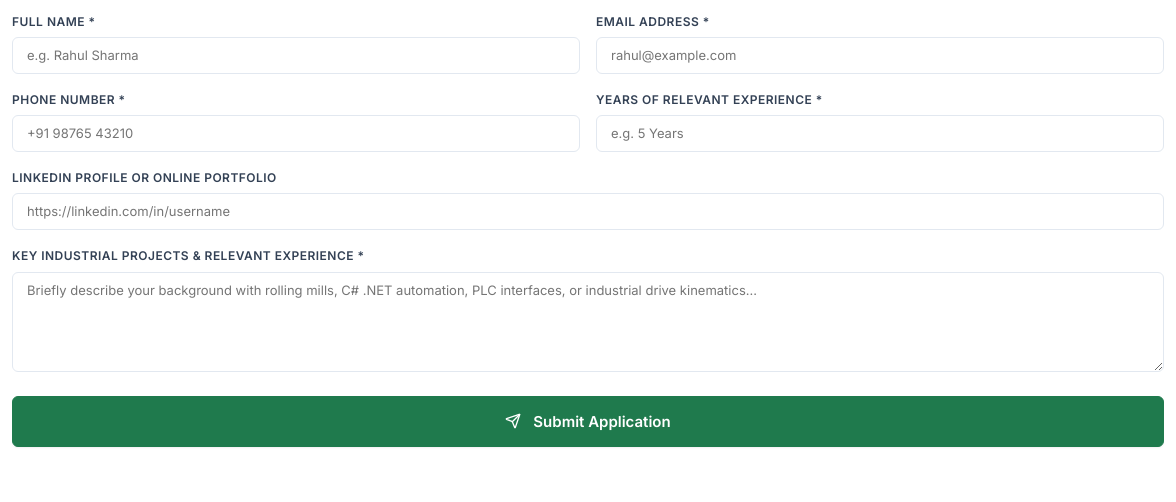
Test: JobApplicationForm › shows generic error message on non-429 API failure
In the field labelled "Full Name *": coordinates (296, 56) [12, 37, 580, 74], type "Rahul Sharma"
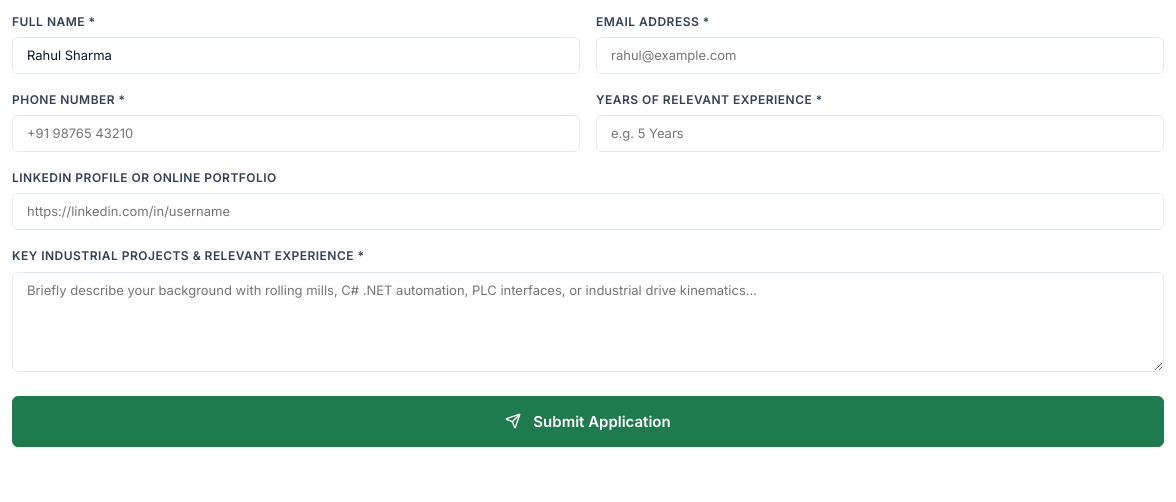
In the field labelled "Email Address *": coordinates (880, 56) [596, 37, 1164, 74], type "rahul@plant.com"
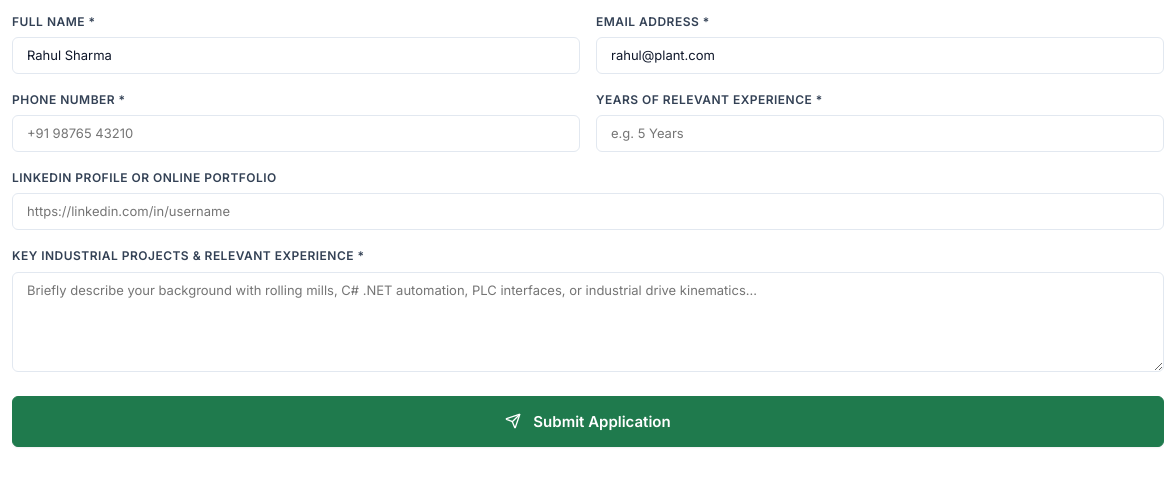
In the field labelled "Phone Number *": coordinates (296, 134) [12, 115, 580, 152], type "+91 9876543210"
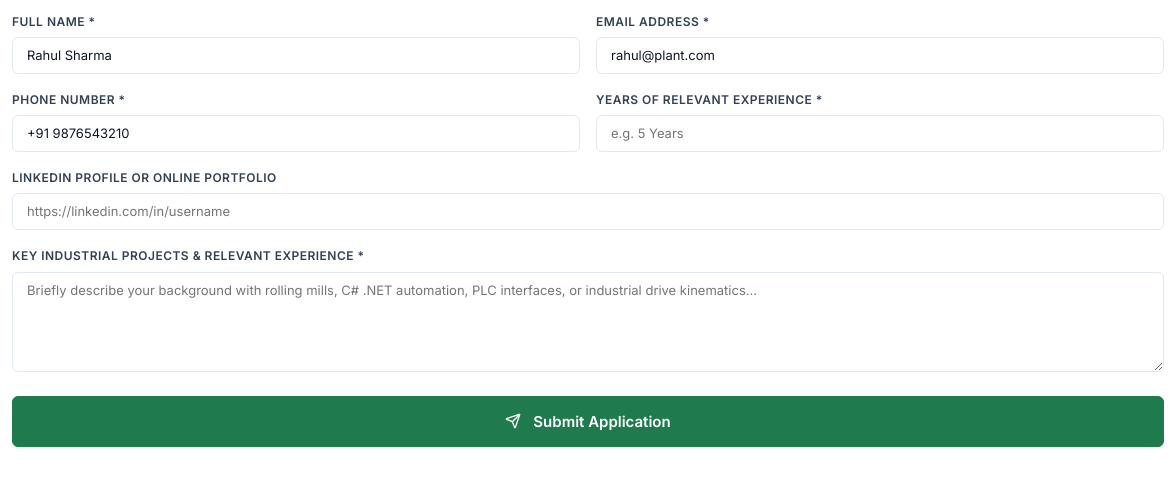
In the field labelled "Years of Relevant Experience *": coordinates (880, 134) [596, 115, 1164, 152], type "5 Years"
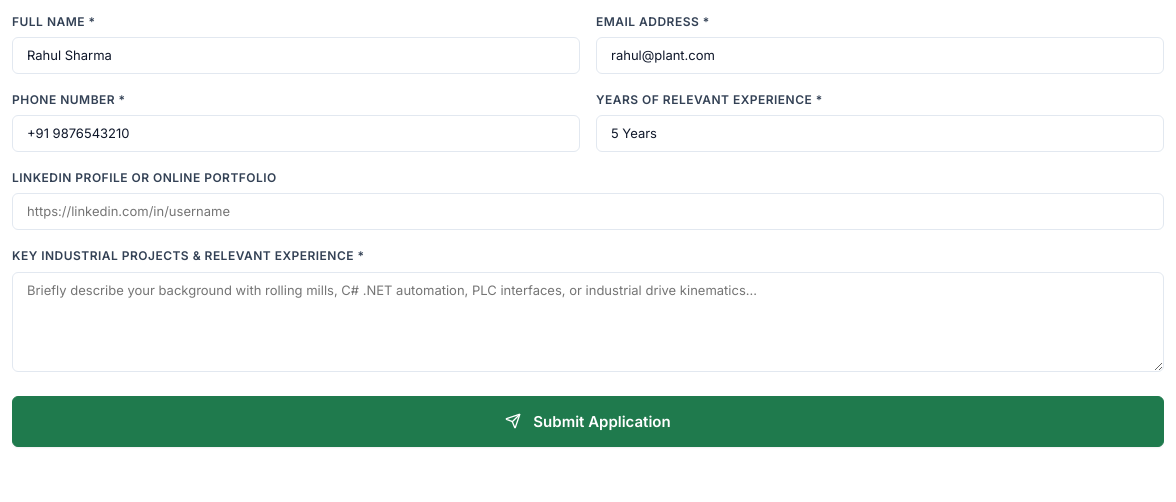
Replace the text in the text box labelled "Key Industrial Projects & Relevant Experience *" with "Worked on 16-stand bar mill automation with Siemens S7-400 PLCs and C# SCADA.": coordinates (588, 322) [12, 272, 1164, 372]
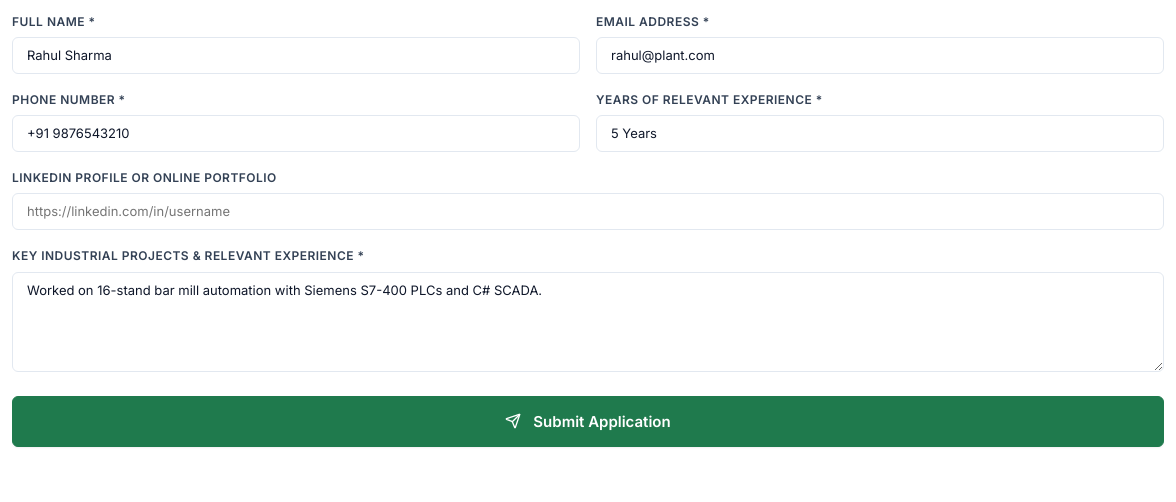
Click the button "Submit Application": coordinates (588, 421) [12, 396, 1164, 447]
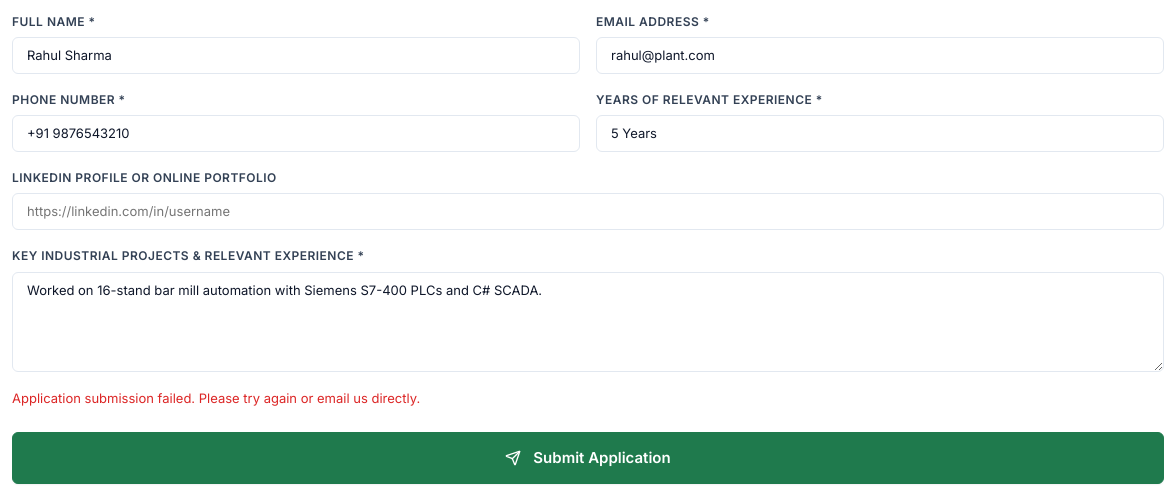
Expected: the text "Application submission failed" is shown, [12, 390, 420, 406]
